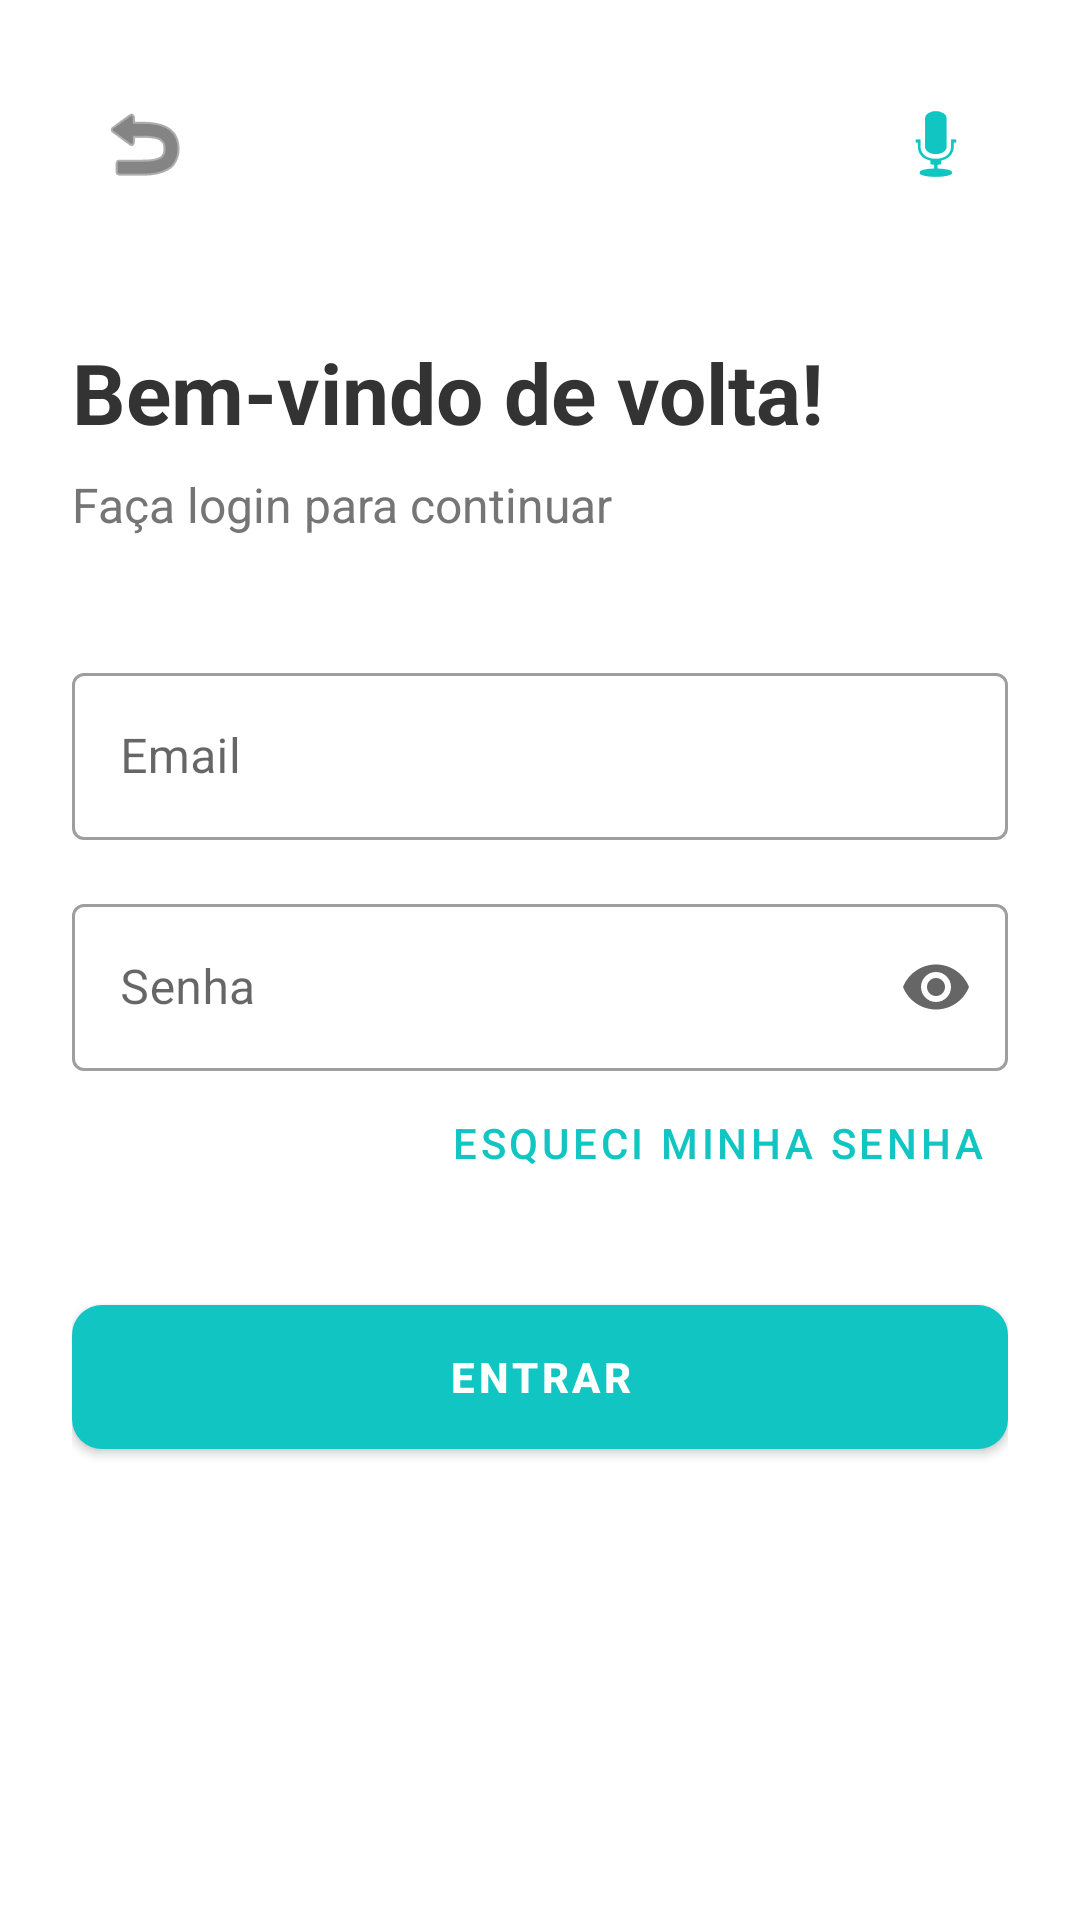

Screen size 1080x1920. Icon name, then its box in pixels as (x1, y1, x2, y2):
Ouvir instruções de áudio: (915, 111, 957, 177)
revert: (111, 113, 180, 176)
